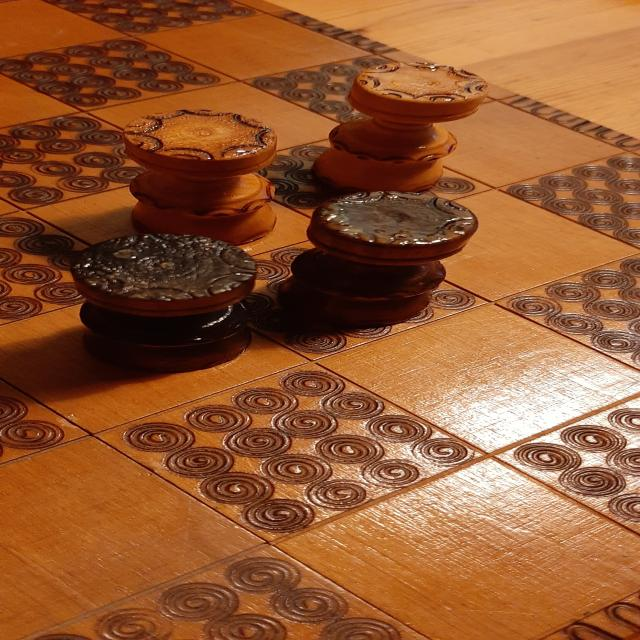black-rook: (278, 190, 481, 330), (67, 232, 259, 374)
white-rook: (308, 60, 490, 196), (122, 107, 280, 245)
